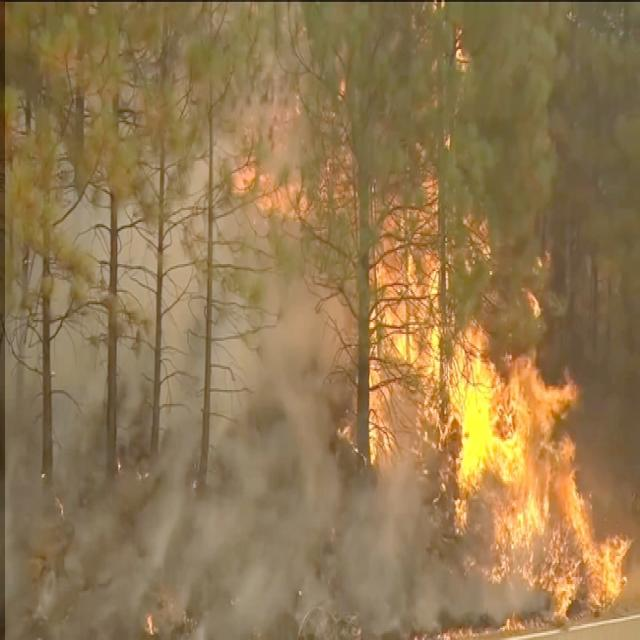Fire: (302, 59, 629, 633)
Smoke: (5, 2, 640, 640)
